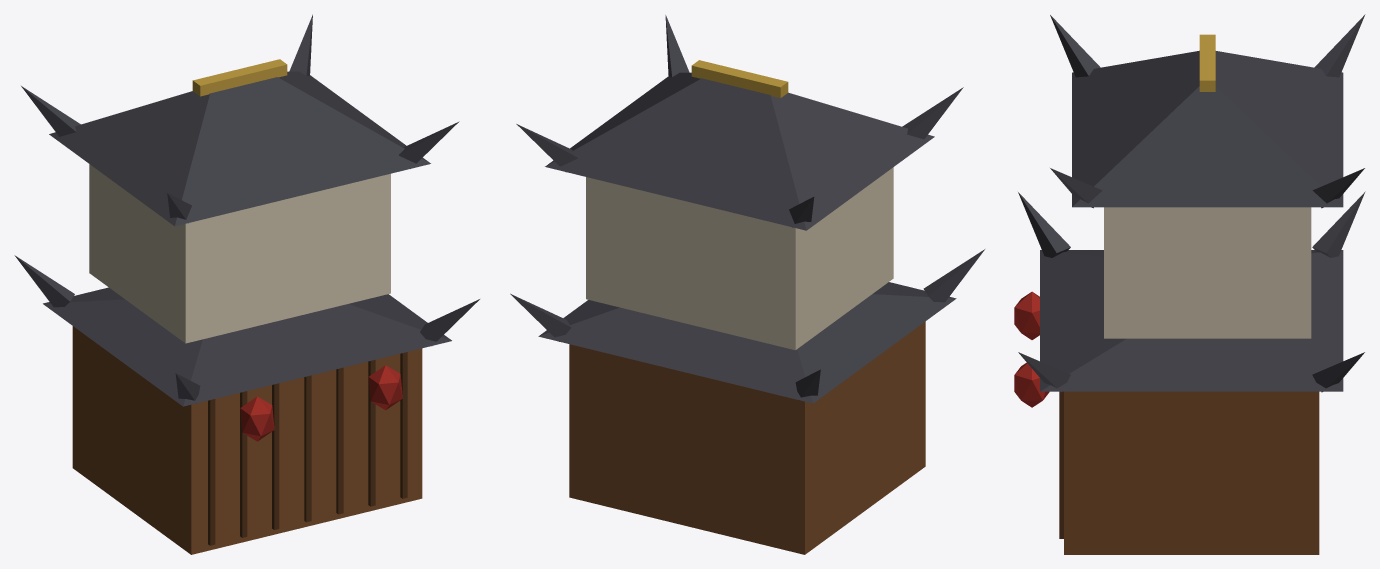
File: macaque_house_b.glb
The picture shows the model from 3 angles, left to right: view 1: azimuth 30°, elevation 25°; view 2: azimuth 150°, elevation 25°; view 3: azimuth 270°, elevation 25°; orthographic projection. The views are drawn at different scales.
Parts seen in each view (by area): view 1: macaque_house_b; view 2: macaque_house_b; view 3: macaque_house_b.
Boxes of the visible parts, box(x1,y1,x2,y2) form: macaque_house_b: box(14, 14, 479, 554); macaque_house_b: box(510, 15, 984, 554); macaque_house_b: box(1014, 14, 1365, 554).
Size of the model in its own units: 2.38 by 3.02 by 2.2.
